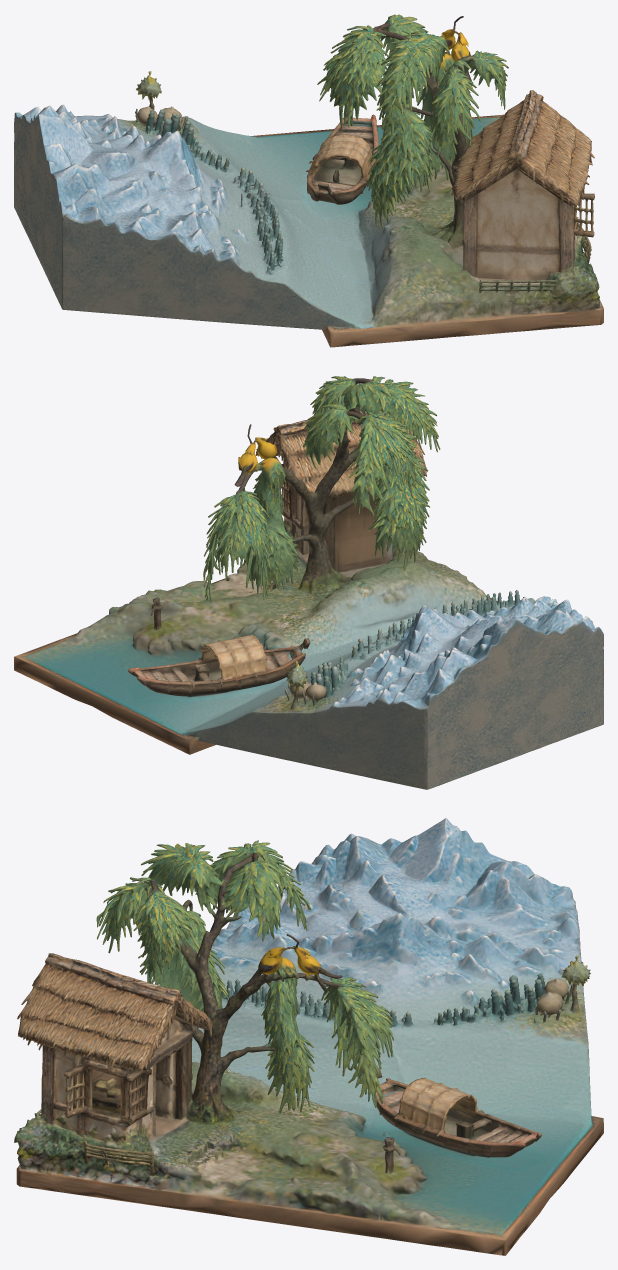
3 views of the same model, one above another, from view 1: azimuth 30°, elevation 25°; view 2: azimuth 150°, elevation 25°; view 3: azimuth 270°, elevation 25° (orthographic). The views are drawn at different scales.
Visible parts, largest first — view 1: tripo_node_ddf27ae7-76b8-4ecb-9546-8d2c5cd9cdef; view 2: tripo_node_ddf27ae7-76b8-4ecb-9546-8d2c5cd9cdef; view 3: tripo_node_ddf27ae7-76b8-4ecb-9546-8d2c5cd9cdef.
Part boxes in pixels (<box>): tripo_node_ddf27ae7-76b8-4ecb-9546-8d2c5cd9cdef: <box>14,14,603,347</box>; tripo_node_ddf27ae7-76b8-4ecb-9546-8d2c5cd9cdef: <box>14,376,603,789</box>; tripo_node_ddf27ae7-76b8-4ecb-9546-8d2c5cd9cdef: <box>14,818,603,1255</box>.
Size of the model in its own units: 1.12 by 0.5121 by 0.9761.
1 material, 1 textured.
